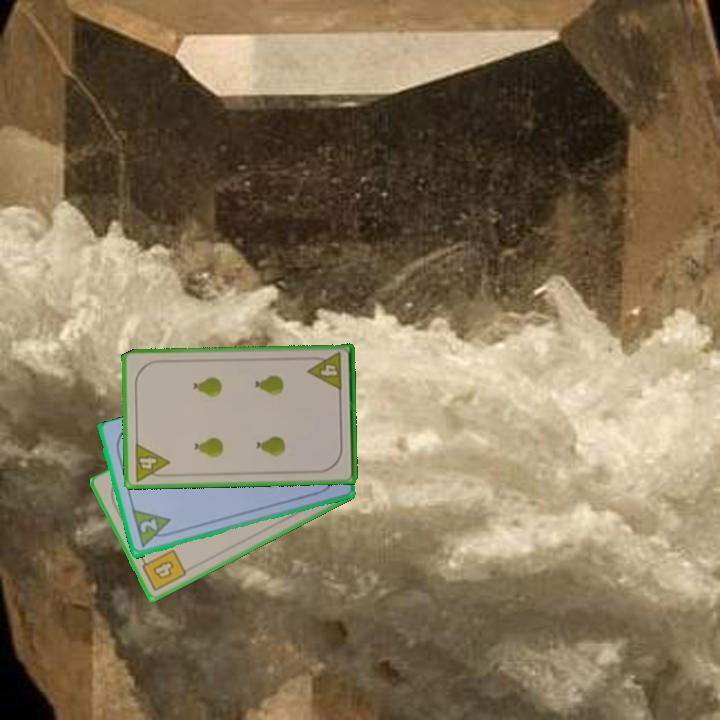2p: (128, 507, 176, 551)
4b: (137, 546, 190, 595)
4p: (131, 440, 172, 484), (305, 349, 345, 394)
